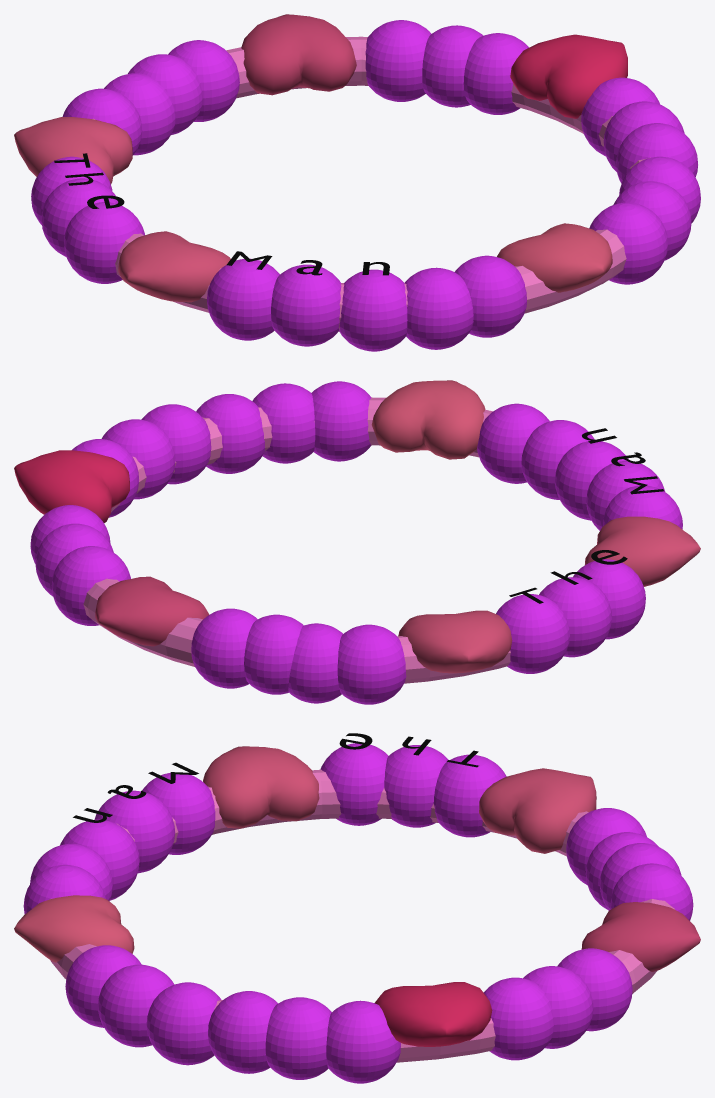
Rendered from Lover_TheMan.fbx.
The picture shows the model from 3 angles, top to bottom: view 1: azimuth 30°, elevation 25°; view 2: azimuth 150°, elevation 25°; view 3: azimuth 270°, elevation 25°; orthographic projection. The views are drawn at different scales.
Parts seen in each view (by area): view 1: Vert.042, Vert.039, Vert.043, Torus.022, Vert.044, Vert.041, Sphere.442, Sphere.443, Sphere.445, Sphere.441, Sphere.435, Sphere.436 (+15 smaller); view 2: Vert.044, Vert.039, Vert.041, Vert.042, Torus.022, Vert.043, Sphere.437, Sphere.447, Sphere.432, Sphere.444, Sphere.431, Sphere.430 (+15 smaller); view 3: Vert.043, Vert.041, Vert.039, Torus.022, Vert.044, Vert.042, Sphere.428, Sphere.430, Sphere.429, Sphere.433, Sphere.438, Sphere.431 (+15 smaller).
Boxes of the visible parts, x1,y1,x2,y2 form: Vert.042: (241,14,356,95); Vert.039: (510,34,627,118); Vert.043: (118,231,230,302); Torus.022: (92,36,650,331); Vert.044: (497,223,612,292); Vert.041: (14,117,132,184); Sphere.442: (271,264,341,346); Sphere.443: (339,269,407,351); Sphere.445: (405,267,473,349); Sphere.441: (207,258,279,340); Sphere.435: (365,20,431,101); Sphere.436: (64,202,144,283); Vert.044: (371,380,485,459); Vert.039: (14,450,129,523); Vert.041: (398,610,512,673); Vert.042: (95,576,209,646); Torus.022: (83,397,510,683); Vert.043: (585,516,700,586); Sphere.437: (337,624,406,704); Sphere.447: (496,594,569,673); Sphere.432: (311,381,371,461); Sphere.444: (191,608,257,688); Sphere.431: (252,383,315,463); Sphere.430: (196,394,265,473); Vert.043: (203,746,319,828); Vert.041: (479,768,596,853); Vert.039: (374,982,492,1046); Torus.022: (50,769,674,1062); Vert.044: (14,895,134,962); Vert.042: (581,902,700,971); Sphere.428: (326,1000,400,1083); Sphere.430: (146,982,220,1065); Sphere.429: (265,997,331,1079); Sphere.433: (483,977,554,1060); Sphere.438: (208,991,277,1073); Sphere.431: (98,964,174,1047).
Bounding box in the file's own units: 118 × 17.15 × 116.
